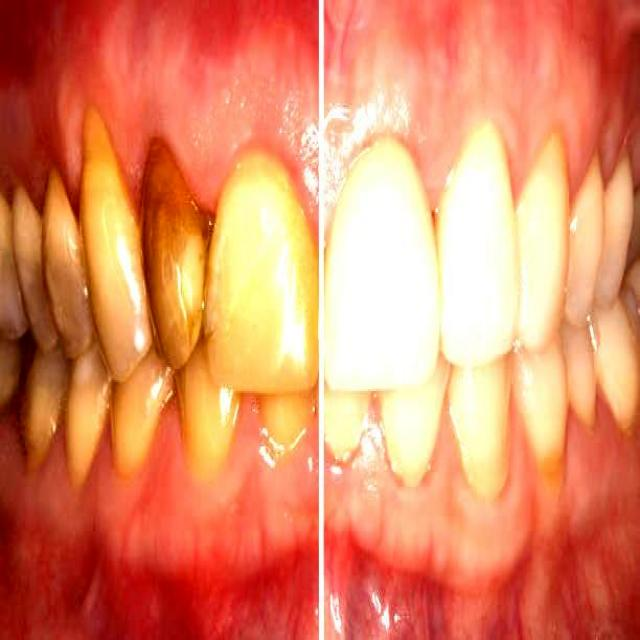gingivitis: (0, 0, 316, 223), (328, 402, 639, 618), (0, 406, 316, 607), (328, 0, 639, 203)
